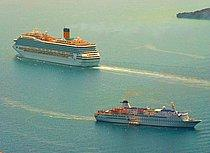Ship: (8, 23, 103, 70), (93, 99, 94, 100)
